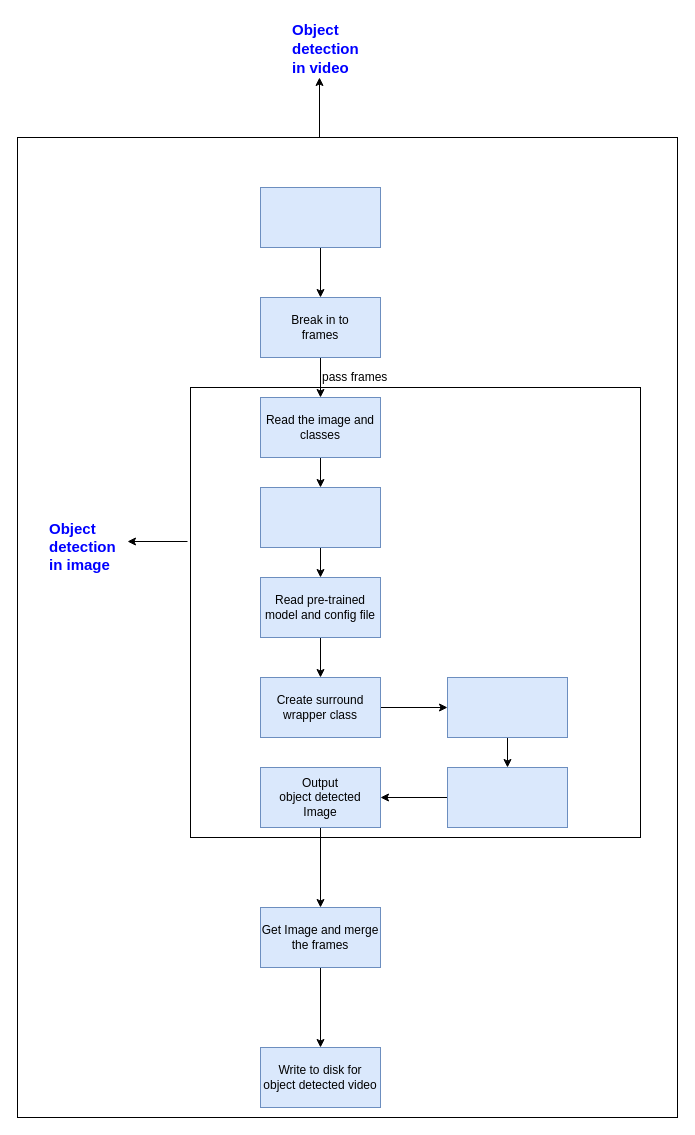
The diagram is 695 pixels wide and 1135 high, and some of its shapes have lost their labels. The centre of each missing label's shape, as x and y in pixels:
Generate different colour for different classes: [320,517]
get configuration for the wrapper: [507,707]
Read Video clip: [320,217]
Run wrapper: [507,797]
